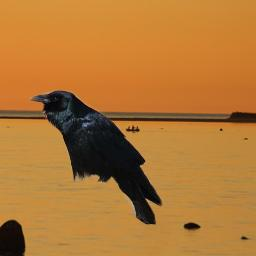Crow: (29, 90, 163, 226)
